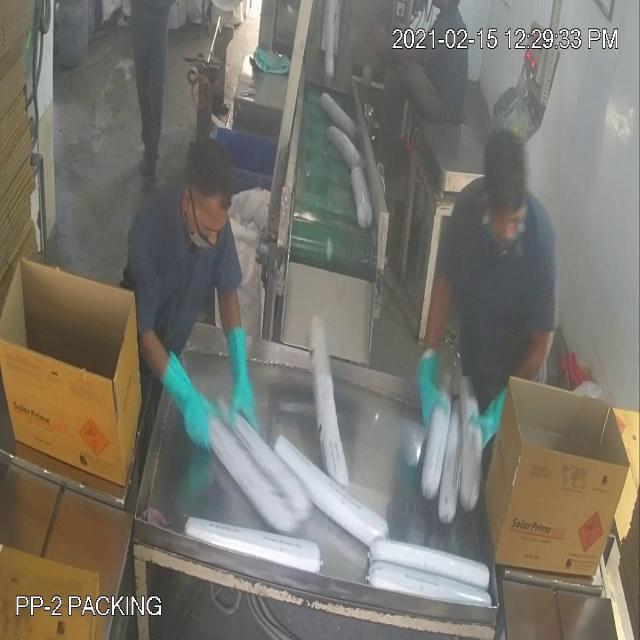gloves: (156, 342, 225, 465), (210, 309, 264, 440), (414, 344, 456, 447), (474, 381, 518, 459)
